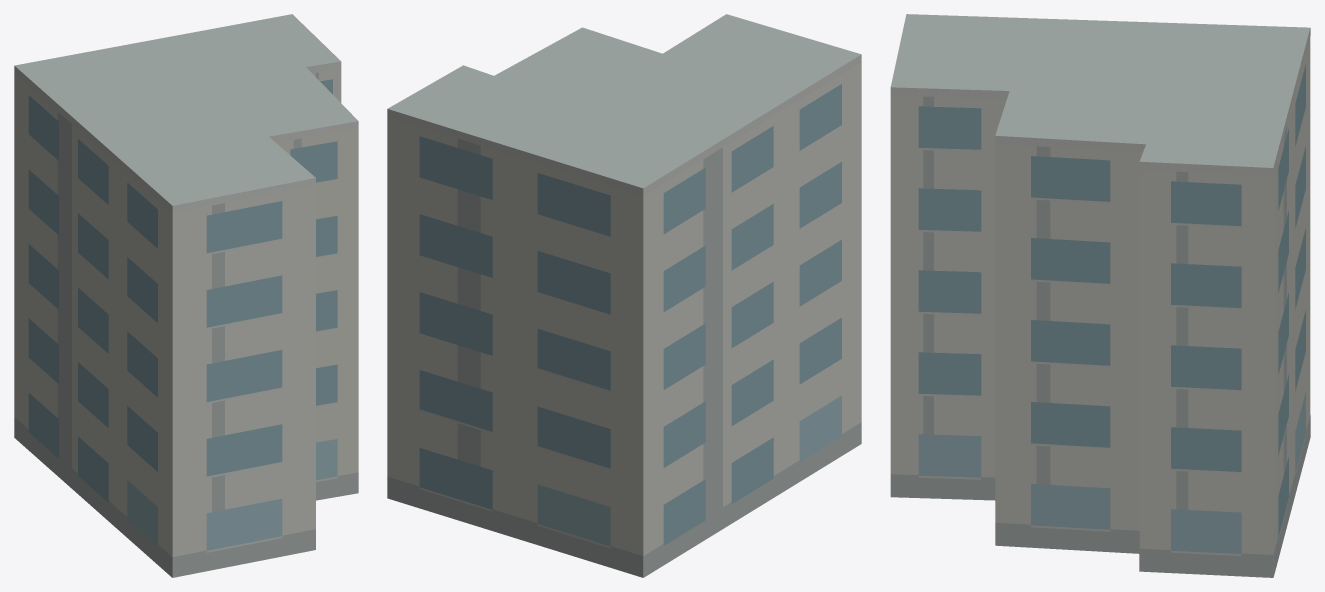
The model's file is survey-upis-32693195.glb.
3 views of the same model, side by side, from view 1: azimuth 30°, elevation 25°; view 2: azimuth 150°, elevation 25°; view 3: azimuth 270°, elevation 25° (orthographic). The views are drawn at different scales.
Parts seen in each view (by area): view 1: survey-upis-32693195.tmp; view 2: survey-upis-32693195.tmp; view 3: survey-upis-32693195.tmp.
Part boxes in pixels (<box>): survey-upis-32693195.tmp: <box>14,14,358,577</box>; survey-upis-32693195.tmp: <box>387,14,861,577</box>; survey-upis-32693195.tmp: <box>890,14,1310,577</box>.
Size of the model in its own units: 9.84 by 12.2 by 11.34.
